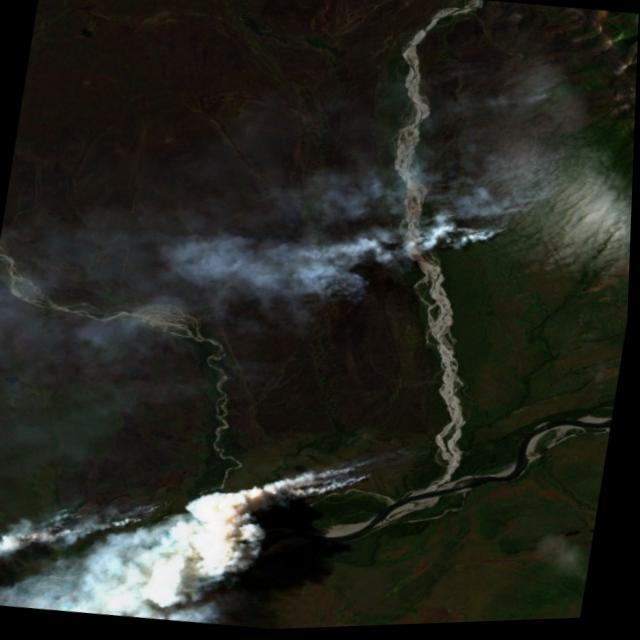fire: (404, 144, 578, 270), (14, 472, 171, 569), (267, 425, 415, 515)
